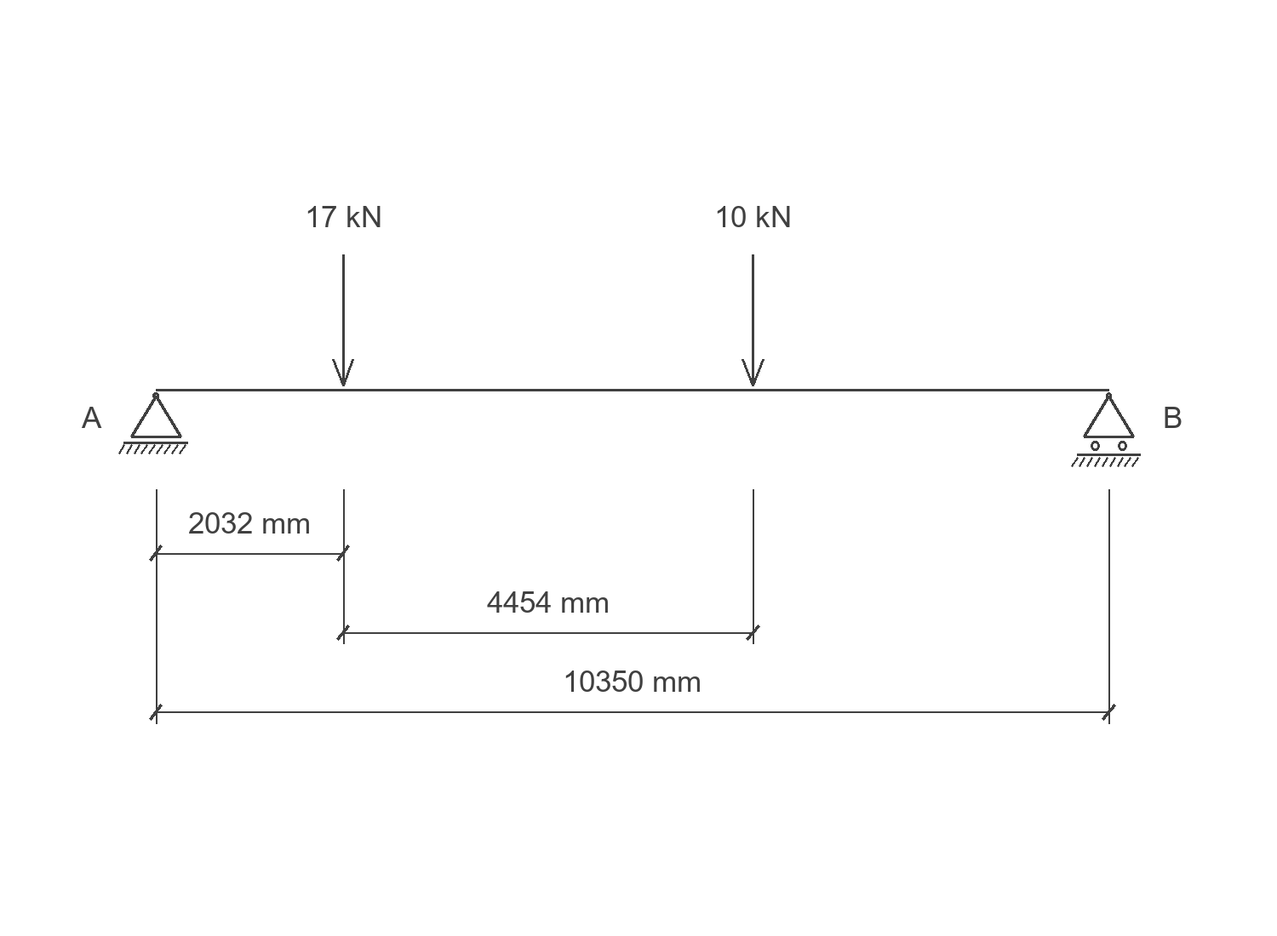pin_support: (118, 392, 188, 454)
point_load: (332, 254, 354, 386), (742, 254, 764, 386)
roller_support: (1071, 392, 1141, 467)
